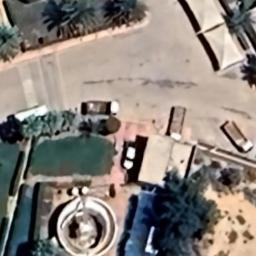sedan: (119, 142, 143, 172)
truck: (218, 114, 256, 158), (78, 96, 122, 118), (165, 101, 187, 143)
